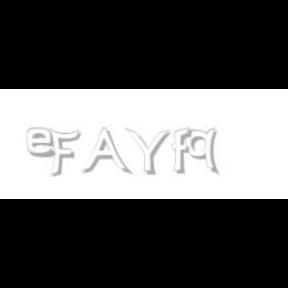A: (81, 128, 129, 176)
F: (48, 128, 80, 178)
Y: (124, 128, 170, 176)
e: (26, 128, 60, 158)
f: (172, 128, 196, 174)
q: (185, 128, 221, 176)
